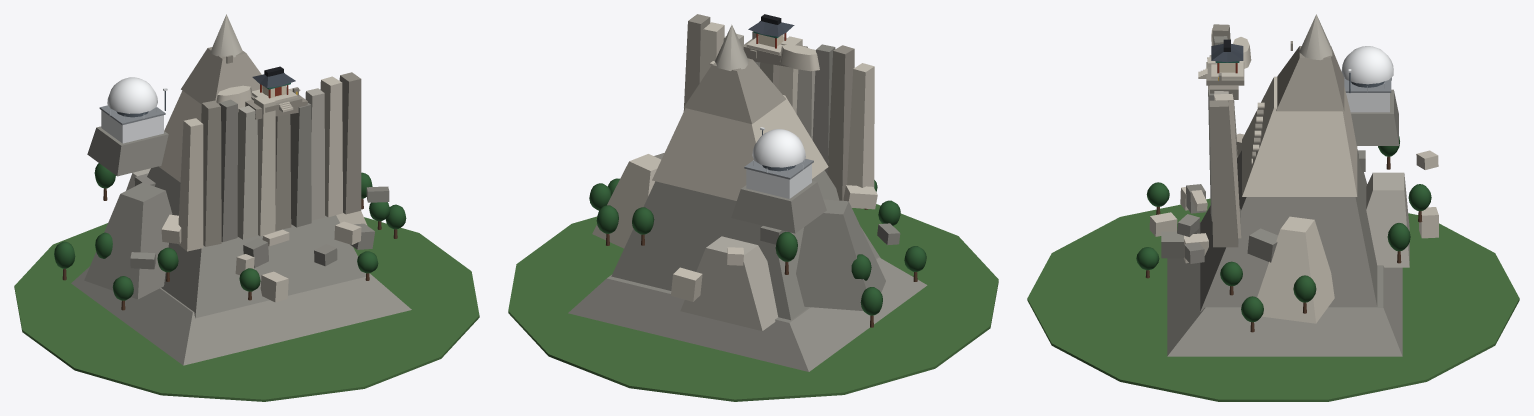
The model's file is gwanaksan-yeonjudae.glb.
The picture shows the model from 3 angles, left to right: view 1: azimuth 30°, elevation 25°; view 2: azimuth 150°, elevation 25°; view 3: azimuth 270°, elevation 25°; orthographic projection. The views are drawn at different scales.
Bounding box in the file's own units: 91.64 × 60.6 × 94.
